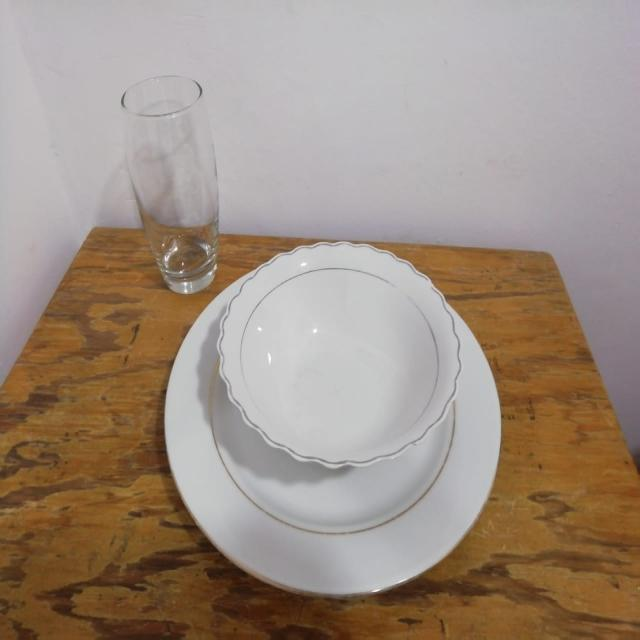ceramic plate: (135, 232, 498, 602), (240, 210, 452, 470)
